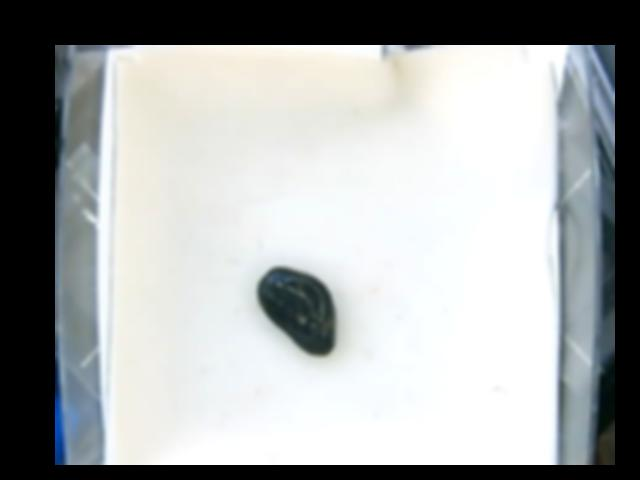Pebble: (257, 265, 338, 353)
